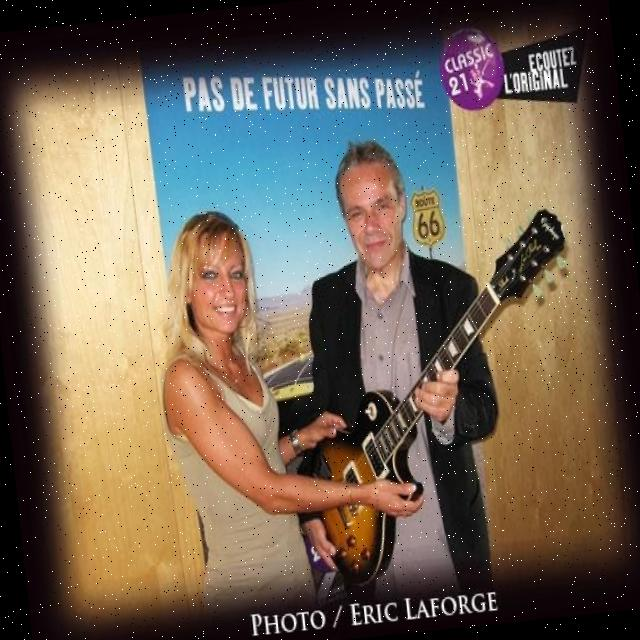guitar: (284, 205, 606, 584)
